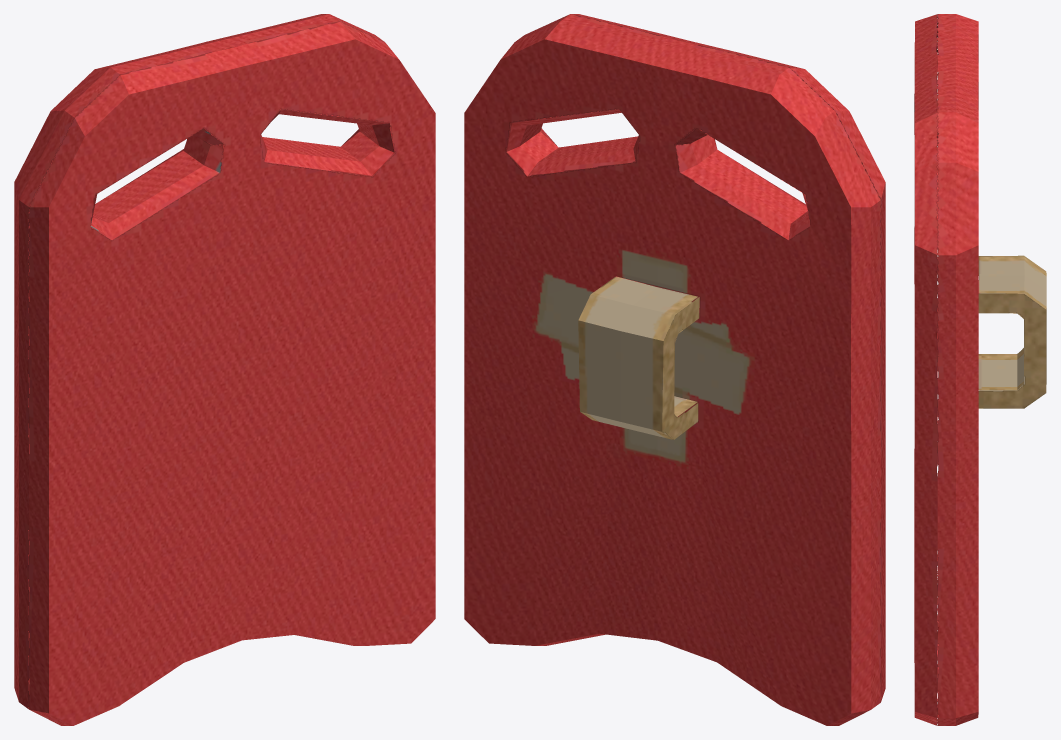
The model's file is SwimmingBoardShield_Red.fbx.
The picture shows the model from 3 angles, left to right: view 1: azimuth 30°, elevation 25°; view 2: azimuth 150°, elevation 25°; view 3: azimuth 270°, elevation 25°; orthographic projection. The views are drawn at different scales.
Visible parts, largest first — view 1: swimming board shield; view 2: swimming board shield; view 3: swimming board shield.
Boxes of the visible parts, left/top/right/bottom form: swimming board shield: left=14, top=14, right=435, bottom=725; swimming board shield: left=464, top=14, right=885, bottom=725; swimming board shield: left=914, top=14, right=1046, bottom=725.
Size of the model in its own units: 51.62 by 78.1 by 16.
